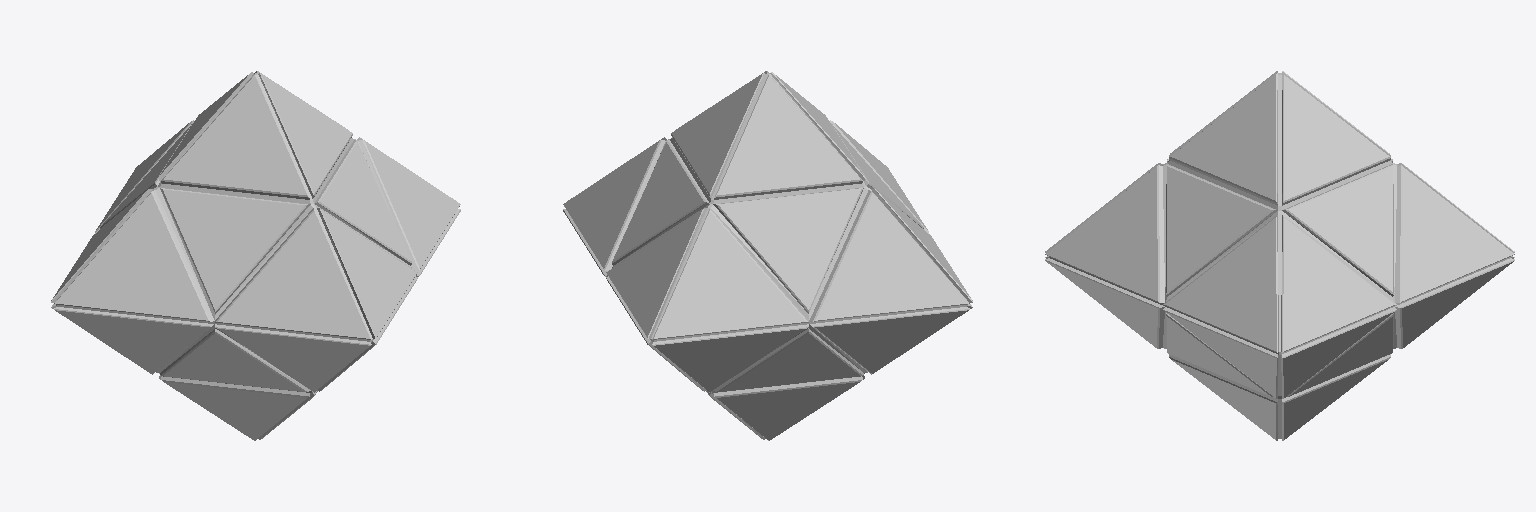
File: Octahedron.obj
3 renders of one model, left to right at view 1: azimuth 30°, elevation 25°; view 2: azimuth 150°, elevation 25°; view 3: azimuth 270°, elevation 25°, orthographic.
Visible parts, largest first — view 1: meshes_0; view 2: meshes_0; view 3: meshes_0.
Part boxes in pixels (left/top/right/bottom): meshes_0: left=51, top=71, right=460, bottom=440; meshes_0: left=563, top=71, right=972, bottom=440; meshes_0: left=1045, top=71, right=1514, bottom=440.
Bounding box in the file's own units: 0.2467 × 0.2124 × 0.247.